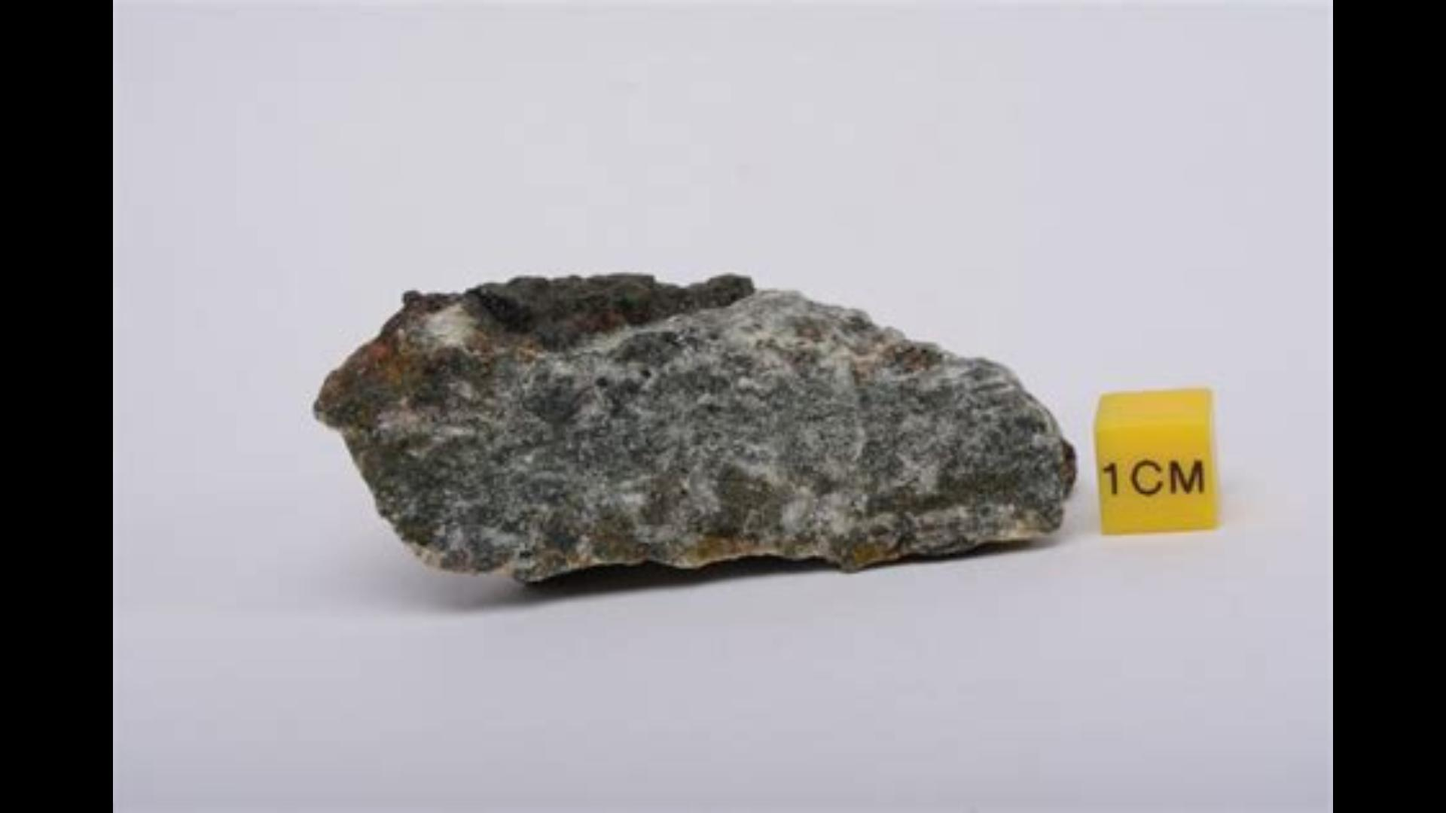rock: (314, 275, 1073, 576)
